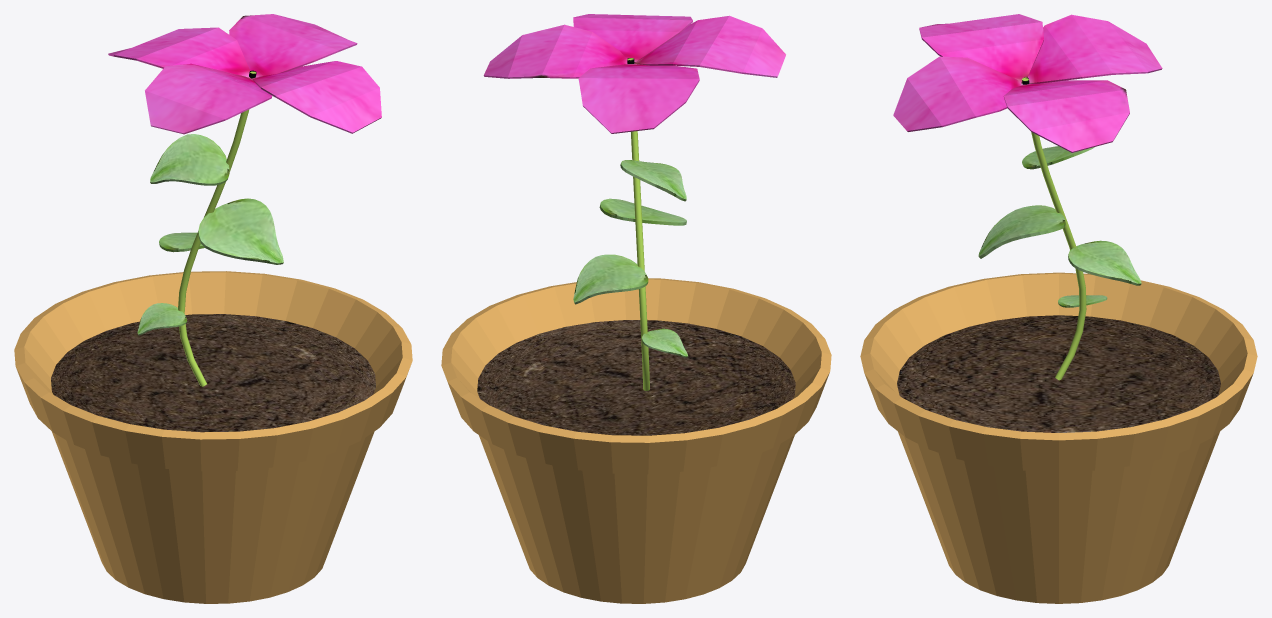
The model's file is Vodenika_TarikLolic.fbx.
The picture shows the model from 3 angles, left to right: view 1: azimuth 30°, elevation 25°; view 2: azimuth 150°, elevation 25°; view 3: azimuth 270°, elevation 25°; orthographic projection. The views are drawn at different scales.
Parts seen in each view (by area): view 1: Cylinder.001, Plane.003, Plane, Plane.001, Plane.004, Plane.002, Plane.007, BezierCurve, Plane.006, Plane.005; view 2: Cylinder.001, Plane.002, Plane.003, Plane.001, Plane, Plane.005, BezierCurve, Plane.007, Plane.004, Plane.006; view 3: Cylinder.001, Plane.001, Plane, Plane.002, Plane.003, Plane.004, Plane.005, BezierCurve, Plane.007.
Boxes of the visible parts, bbox=[...] form: Cylinder.001: bbox=[14, 271, 412, 603]; Plane.003: bbox=[145, 63, 272, 134]; Plane: bbox=[252, 61, 381, 133]; Plane.001: bbox=[229, 14, 357, 77]; Plane.004: bbox=[198, 198, 283, 264]; Plane.002: bbox=[108, 27, 250, 77]; Plane.007: bbox=[150, 134, 229, 185]; BezierCurve: bbox=[178, 70, 256, 386]; Plane.006: bbox=[137, 303, 186, 335]; Plane.005: bbox=[159, 232, 204, 252]; Cylinder.001: bbox=[441, 278, 831, 603]; Plane.002: bbox=[578, 63, 699, 133]; Plane.003: bbox=[634, 15, 785, 77]; Plane.001: bbox=[483, 24, 627, 78]; Plane: bbox=[573, 14, 692, 62]; Plane.005: bbox=[573, 254, 648, 304]; BezierCurve: bbox=[627, 58, 649, 390]; Plane.007: bbox=[620, 160, 686, 201]; Plane.004: bbox=[599, 198, 686, 225]; Plane.006: bbox=[641, 328, 688, 357]; Cylinder.001: bbox=[860, 272, 1257, 603]; Plane.001: bbox=[1003, 80, 1129, 152]; Plane: bbox=[893, 56, 1021, 131]; Plane.002: bbox=[1027, 14, 1162, 83]; Plane.003: bbox=[919, 14, 1043, 83]; Plane.004: bbox=[978, 205, 1065, 258]; Plane.005: bbox=[1068, 240, 1141, 285]; BezierCurve: bbox=[1022, 77, 1086, 380]; Plane.007: bbox=[1022, 146, 1094, 169].
Size of the model in its own units: 226 by 318 by 226.
Materials: 6 (3 with a texture image).
